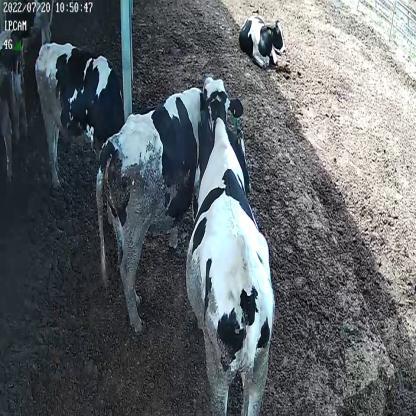cow: (94, 85, 252, 334), (186, 73, 276, 416), (33, 40, 130, 194), (239, 8, 285, 69)
